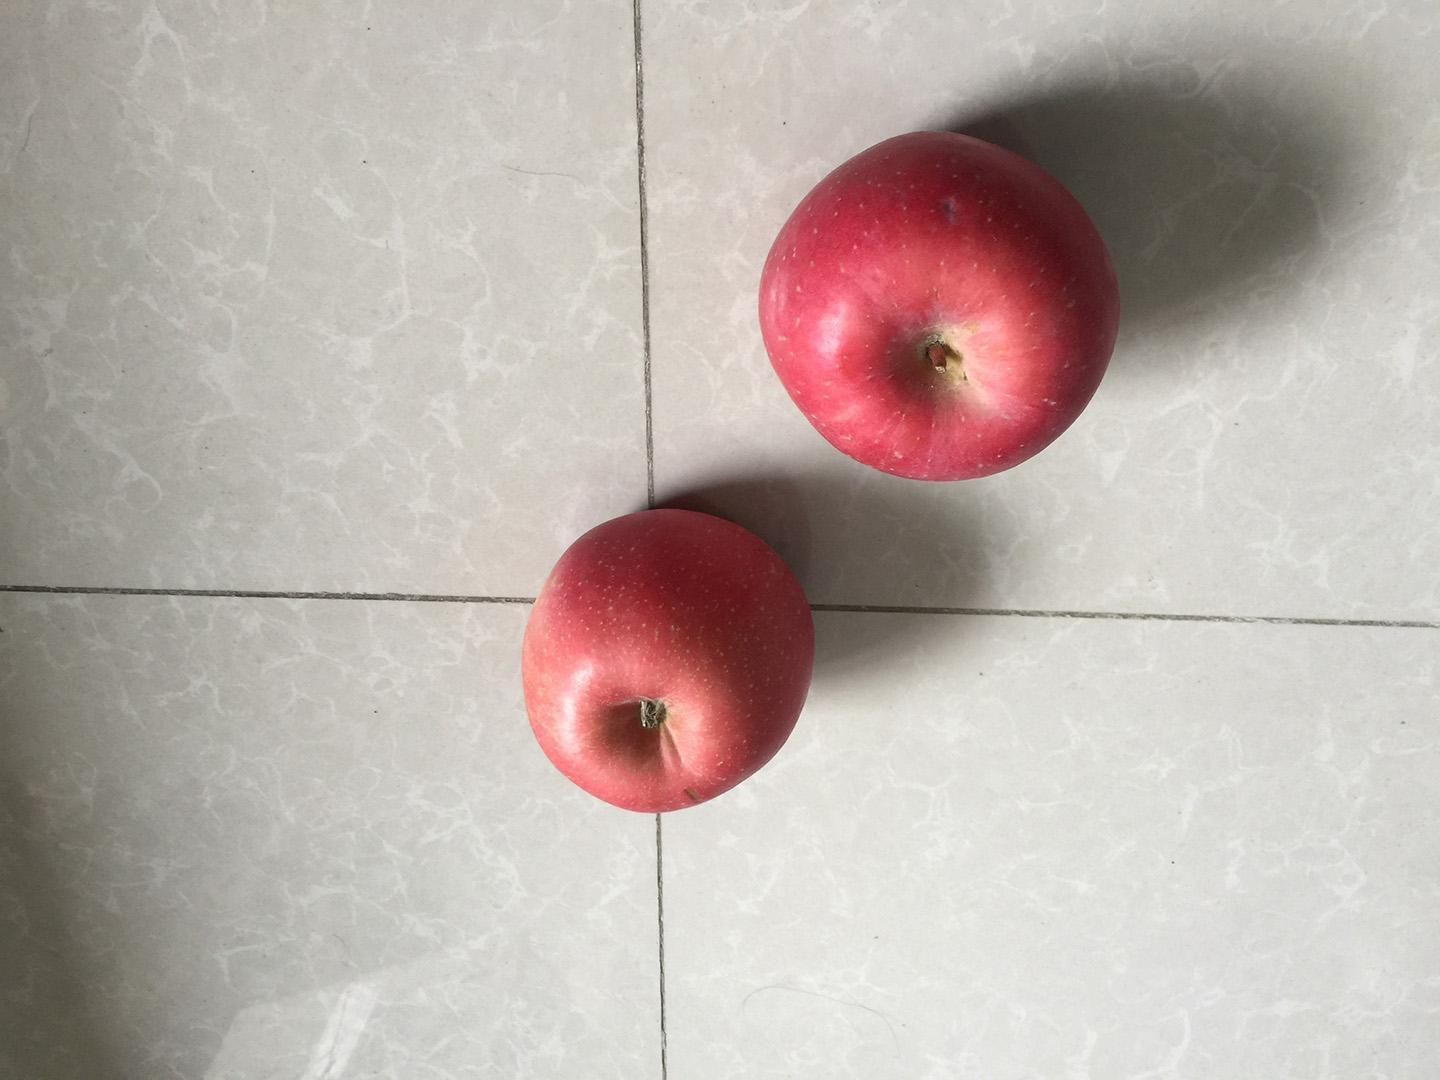apple: (748, 124, 1134, 490), (513, 497, 819, 824)
